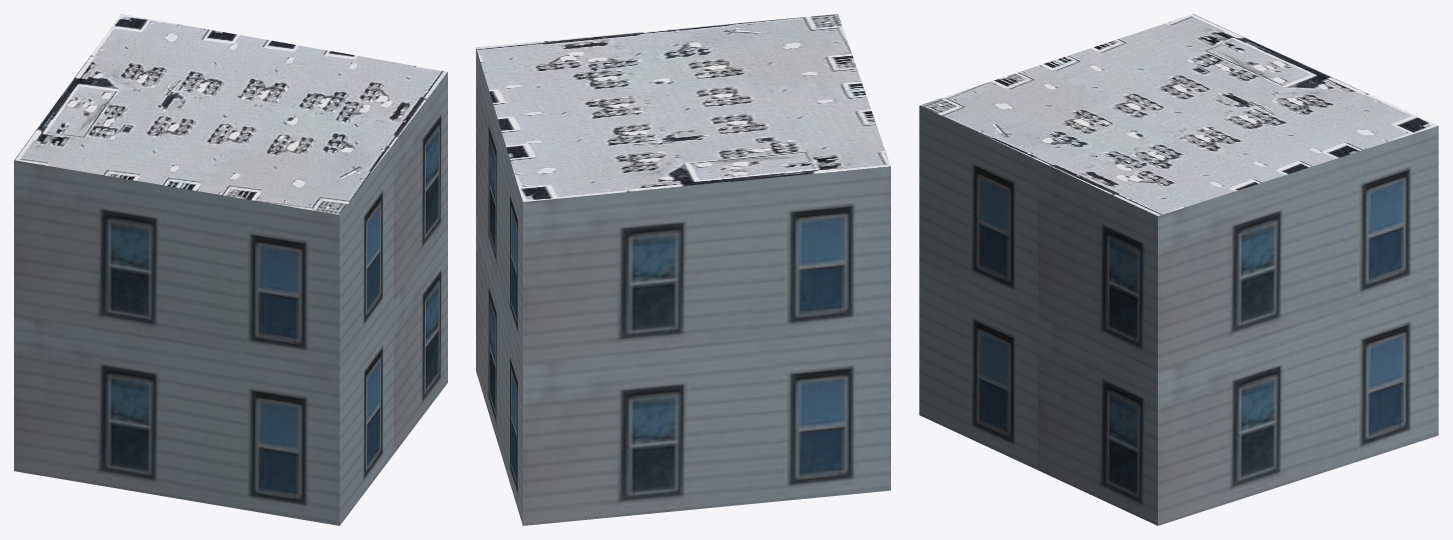
Rendered from ResTex__532.fbx.
3 renders of one model, left to right at view 1: azimuth 30°, elevation 25°; view 2: azimuth 150°, elevation 25°; view 3: azimuth 270°, elevation 25°, orthographic. The views are drawn at different scales.
Visible parts, largest first — view 1: CityEngineMaterial_18_m, CityEngineMaterial_4_m; view 2: CityEngineMaterial_18_m, CityEngineMaterial_4_m; view 3: CityEngineMaterial_18_m, CityEngineMaterial_4_m.
Boxes of the visible parts, x1,y1,x2,y2 form: CityEngineMaterial_18_m: [14, 72, 447, 525]; CityEngineMaterial_4_m: [14, 14, 447, 214]; CityEngineMaterial_18_m: [476, 48, 890, 525]; CityEngineMaterial_4_m: [476, 14, 890, 201]; CityEngineMaterial_18_m: [919, 105, 1438, 525]; CityEngineMaterial_4_m: [919, 14, 1438, 215].
Bounding box in the file's own units: 8.4 × 6 × 9.12.
2 materials, 2 textured.
